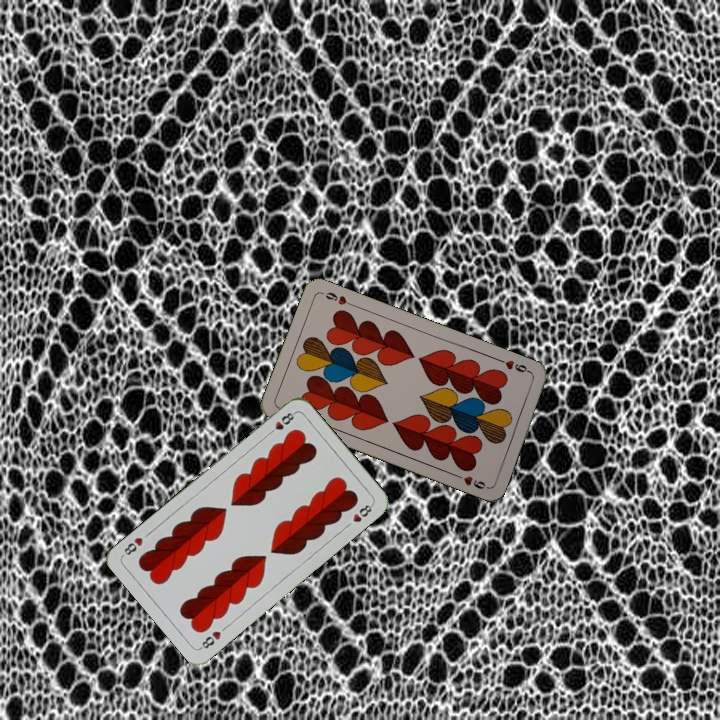H8: (264, 408, 298, 438), (196, 627, 224, 652)
H9: (494, 355, 534, 376)
